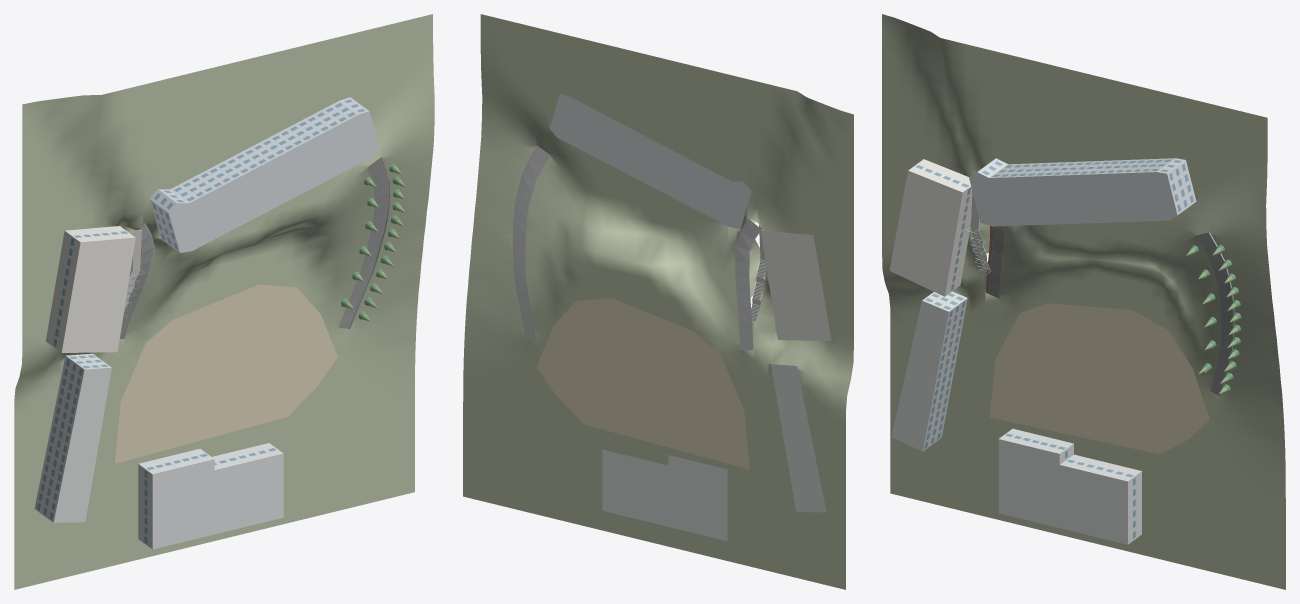
The model's file is campus.glb.
3 views of the same model, side by side, from view 1: azimuth 30°, elevation 25°; view 2: azimuth 150°, elevation 25°; view 3: azimuth 330°, elevation 25° (orthographic). The views are drawn at different scales.
Visible parts, largest first — view 1: Geom3D (×10); view 2: Geom3D (×8); view 3: Geom3D (×10).
Part boxes in pixels (left/top/right/bottom): Geom3D (×10): left=14, top=14, right=434, bottom=589; Geom3D (×8): left=463, top=14, right=853, bottom=589; Geom3D (×10): left=882, top=14, right=1285, bottom=589.
Bounding box in the file's own units: 145 × 170 × 23.46.
